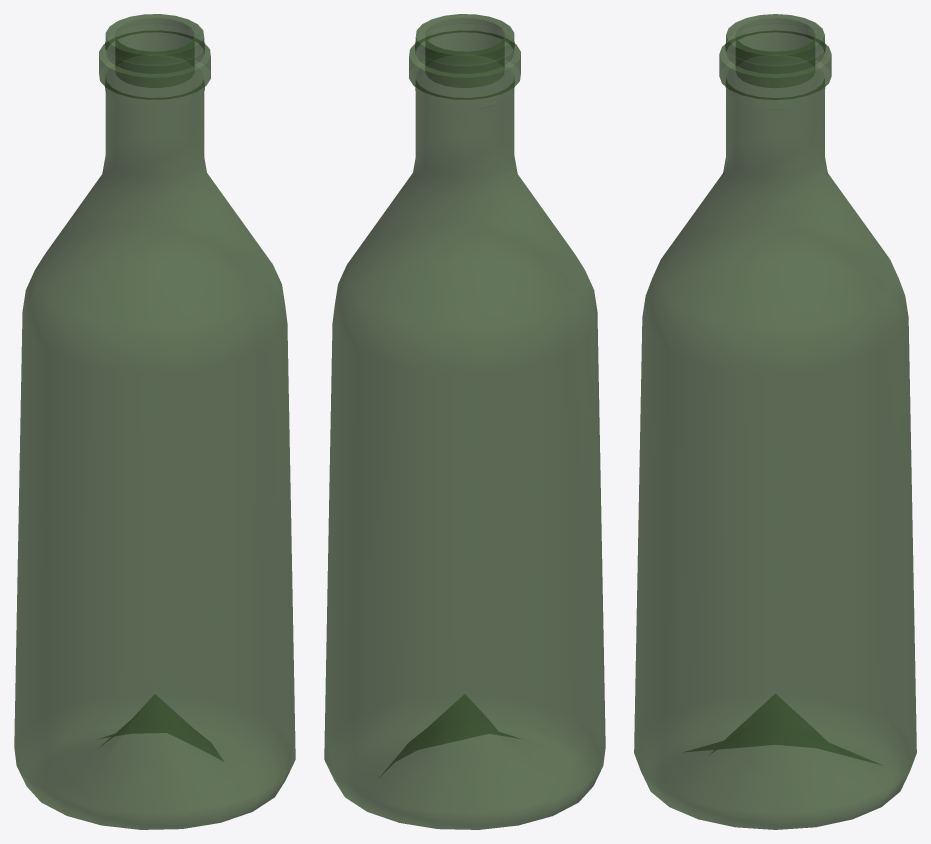
Rendered from bottle.glb.
3 views of the same model, side by side, from view 1: azimuth 30°, elevation 25°; view 2: azimuth 150°, elevation 25°; view 3: azimuth 270°, elevation 25° (orthographic).
Visible parts, largest first — view 1: bottle_low; view 2: bottle_low; view 3: bottle_low.
Boxes of the visible parts, x1,y1,x2,y2 form: bottle_low: (14,14,295,829); bottle_low: (324,14,605,829); bottle_low: (634,14,916,829).
Bounding box in the file's own units: 0.0506 × 0.1473 × 0.0506.
1 material, 1 textured.
